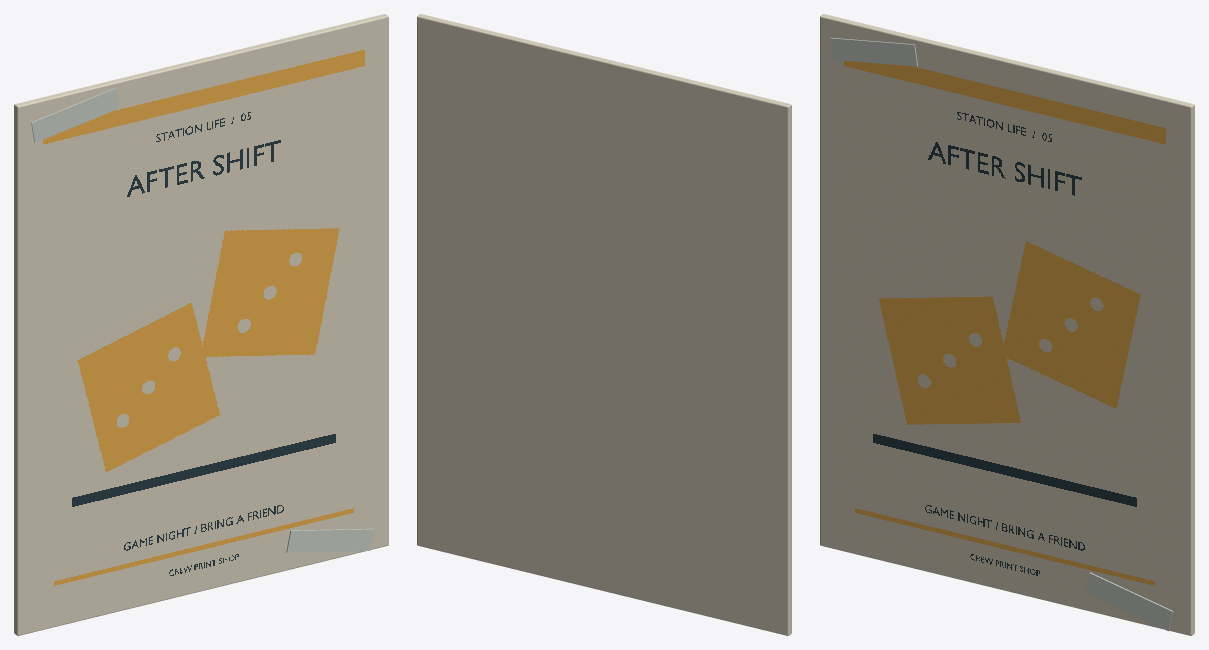
Rendered from lbd_poster_games.glb.
3 renders of one model, left to right at view 1: azimuth 30°, elevation 25°; view 2: azimuth 150°, elevation 25°; view 3: azimuth 330°, elevation 25°, orthographic.
Visible parts, largest first — view 1: poster_games__poster_games_004, poster_games__backing_003, poster_games__paper tape_007, poster_games__paper tape_010; view 2: poster_games__backing_003; view 3: poster_games__poster_games_004, poster_games__backing_003, poster_games__paper tape_010, poster_games__paper tape_007.
Boxes of the visible parts, box(x1,y1,x2,y2) form: poster_games__poster_games_004: box(24, 25, 382, 627); poster_games__backing_003: box(14, 14, 388, 635); poster_games__paper tape_007: box(31, 88, 118, 142); poster_games__paper tape_010: box(286, 528, 374, 552); poster_games__backing_003: box(417, 14, 791, 635); poster_games__poster_games_004: box(826, 25, 1184, 627); poster_games__backing_003: box(820, 14, 1194, 635); poster_games__paper tape_010: box(1085, 572, 1173, 631); poster_games__paper tape_007: box(830, 37, 917, 66).
Bounding box in the file's own units: 0.83 × 1.13 × 0.0225.
3 materials, 1 textured.
